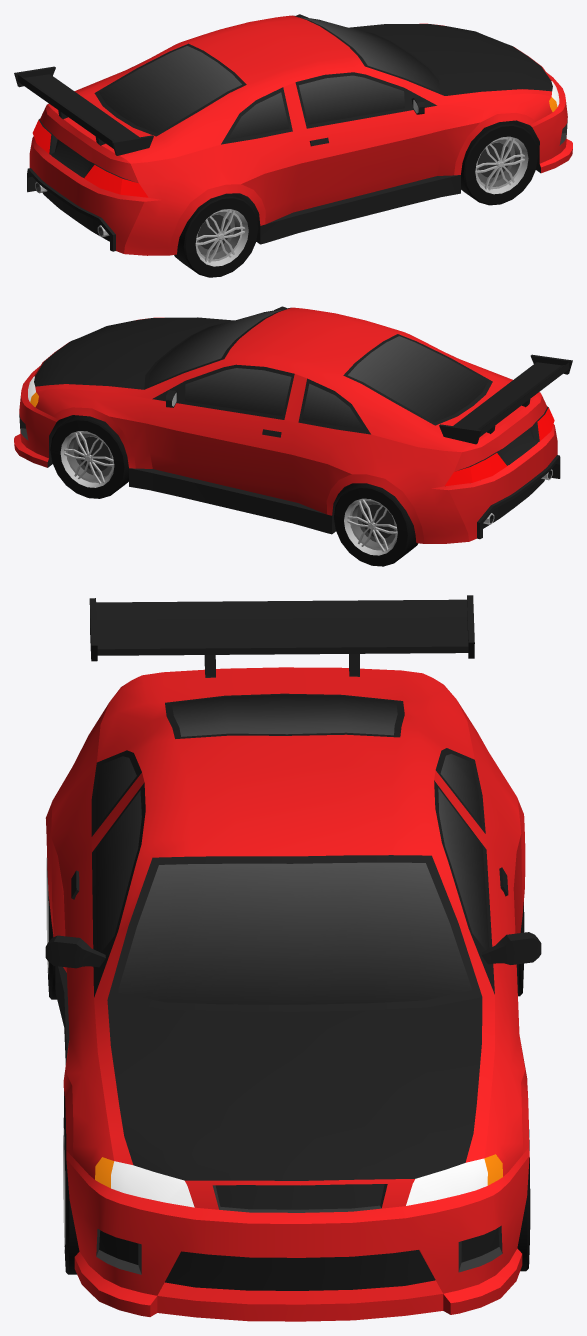
File: Car_194.glb
3 renders of one model, top to bottom at view 1: azimuth 30°, elevation 25°; view 2: azimuth 150°, elevation 25°; view 3: azimuth 270°, elevation 25°, orthographic. The views are drawn at different scales.
Parts seen in each view (by area): view 1: Car_194, wheel_3_Car_194_Wheel_2R, wheel_1_Car_194_Wheel_1R; view 2: Car_194, wheel_2_Car_194_Wheel_2L, wheel_0_Car_194_Wheel_1L; view 3: Car_194, wheel_1_Car_194_Wheel_1R.
Boxes of the visible parts, box(x1,y1,x2,y2) form: Car_194: box(14, 14, 572, 255); wheel_3_Car_194_Wheel_2R: box(174, 193, 258, 277); wheel_1_Car_194_Wheel_1R: box(461, 120, 538, 205); Car_194: box(14, 306, 572, 543); wheel_2_Car_194_Wheel_2L: box(334, 483, 418, 566); wheel_0_Car_194_Wheel_1L: box(50, 415, 128, 498); Car_194: box(45, 595, 541, 1321); wheel_1_Car_194_Wheel_1R: box(63, 1105, 79, 1274).
Bounding box in the file's own units: 4.54 × 1.42 × 2.01.
Materials: 3 (3 with a texture image).
